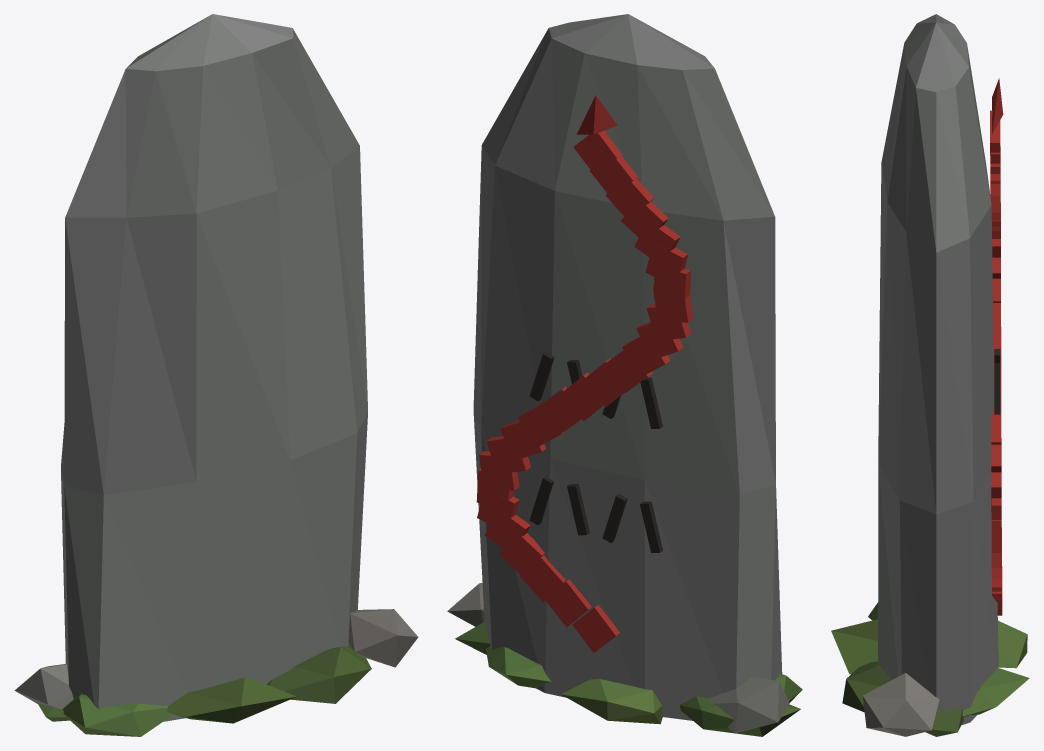
The model's file is DecorRuneStone.glb.
3 views of the same model, side by side, from view 1: azimuth 30°, elevation 25°; view 2: azimuth 150°, elevation 25°; view 3: azimuth 270°, elevation 25° (orthographic). The views are drawn at different scales.
Visible parts, largest first — view 1: Mat_Stone_767775, Mat_Leaves_43582b, Mat_Leaves_496130, Mat_Leaves_516c36, Mat_Stone_322e2c; view 2: Mat_Stone_767775, Mat_Cloth_a02c26, Mat_Stone_322e2c, Mat_Leaves_516c36, Mat_Leaves_43582b, Mat_Leaves_496130; view 3: Mat_Stone_767775, Mat_Cloth_a02c26, Mat_Leaves_516c36, Mat_Leaves_43582b, Mat_Stone_322e2c, Mat_Leaves_496130.
Boxes of the visible parts, box(x1,y1,x2,y2) form: Mat_Stone_767775: box(14, 14, 417, 721); Mat_Leaves_43582b: box(46, 644, 371, 736); Mat_Leaves_496130: box(37, 646, 371, 736); Mat_Leaves_516c36: box(46, 677, 296, 736); Mat_Stone_322e2c: box(41, 609, 418, 668); Mat_Stone_767775: box(447, 14, 789, 733); Mat_Cloth_a02c26: box(476, 95, 693, 652); Mat_Stone_322e2c: box(447, 352, 778, 733); Mat_Leaves_516c36: box(486, 646, 786, 736); Mat_Leaves_43582b: box(455, 622, 800, 736); Mat_Leaves_496130: box(505, 647, 802, 720); Mat_Stone_767775: box(863, 14, 998, 736); Mat_Cloth_a02c26: box(990, 78, 1003, 615); Mat_Leaves_516c36: box(831, 620, 1029, 716); Mat_Leaves_43582b: box(831, 602, 963, 735); Mat_Stone_322e2c: box(862, 349, 1000, 730); Mat_Leaves_496130: box(868, 605, 1027, 736).
Size of the model in its own units: 3.92 by 7.11 by 1.96.
1 material, 1 textured.
